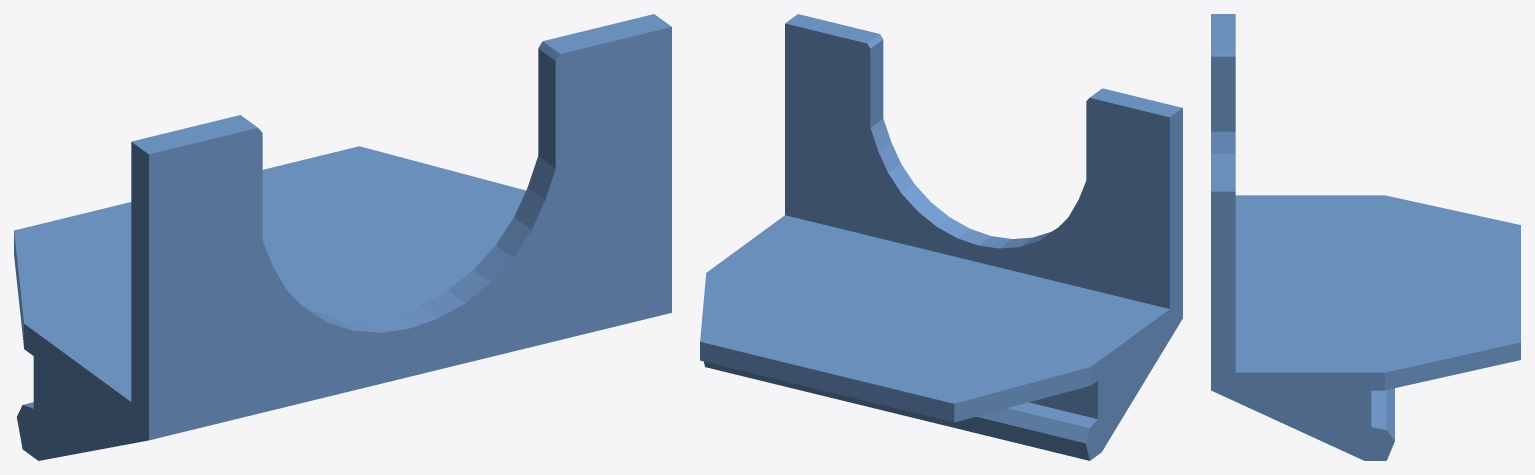
The model's file is phone_holder.glb.
3 views of the same model, side by side, from view 1: azimuth 30°, elevation 25°; view 2: azimuth 150°, elevation 25°; view 3: azimuth 270°, elevation 25° (orthographic). The views are drawn at different scales.
Visible parts, largest first — view 1: Object_2; view 2: Object_2; view 3: Object_2.
Part boxes in pixels (x1=…): Object_2: x1=14, y1=14, x2=671, y2=460; Object_2: x1=700, y1=14, x2=1182, y2=460; Object_2: x1=1211, y1=14, x2=1520, y2=460.
Size of the model in its own units: 64.81 by 45.86 by 47.81.
